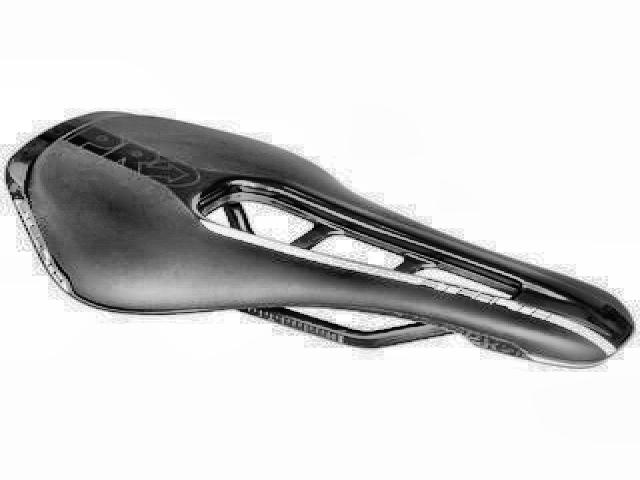saddle: (5, 108, 638, 374)
